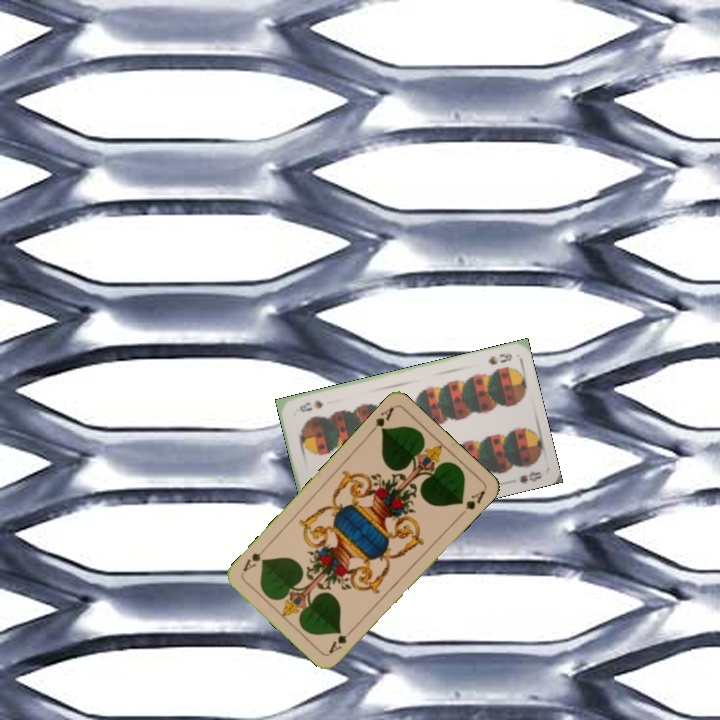GA: (365, 403, 397, 437), (325, 624, 357, 657)
S8: (484, 349, 515, 367)
